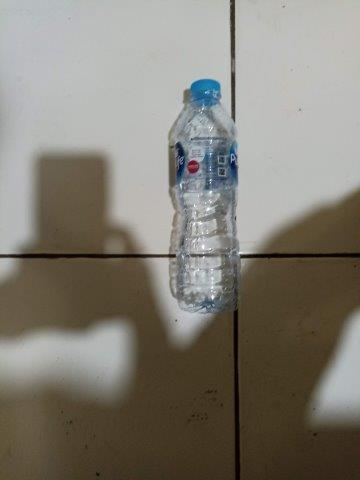botolplastik: (177, 78, 244, 313)
